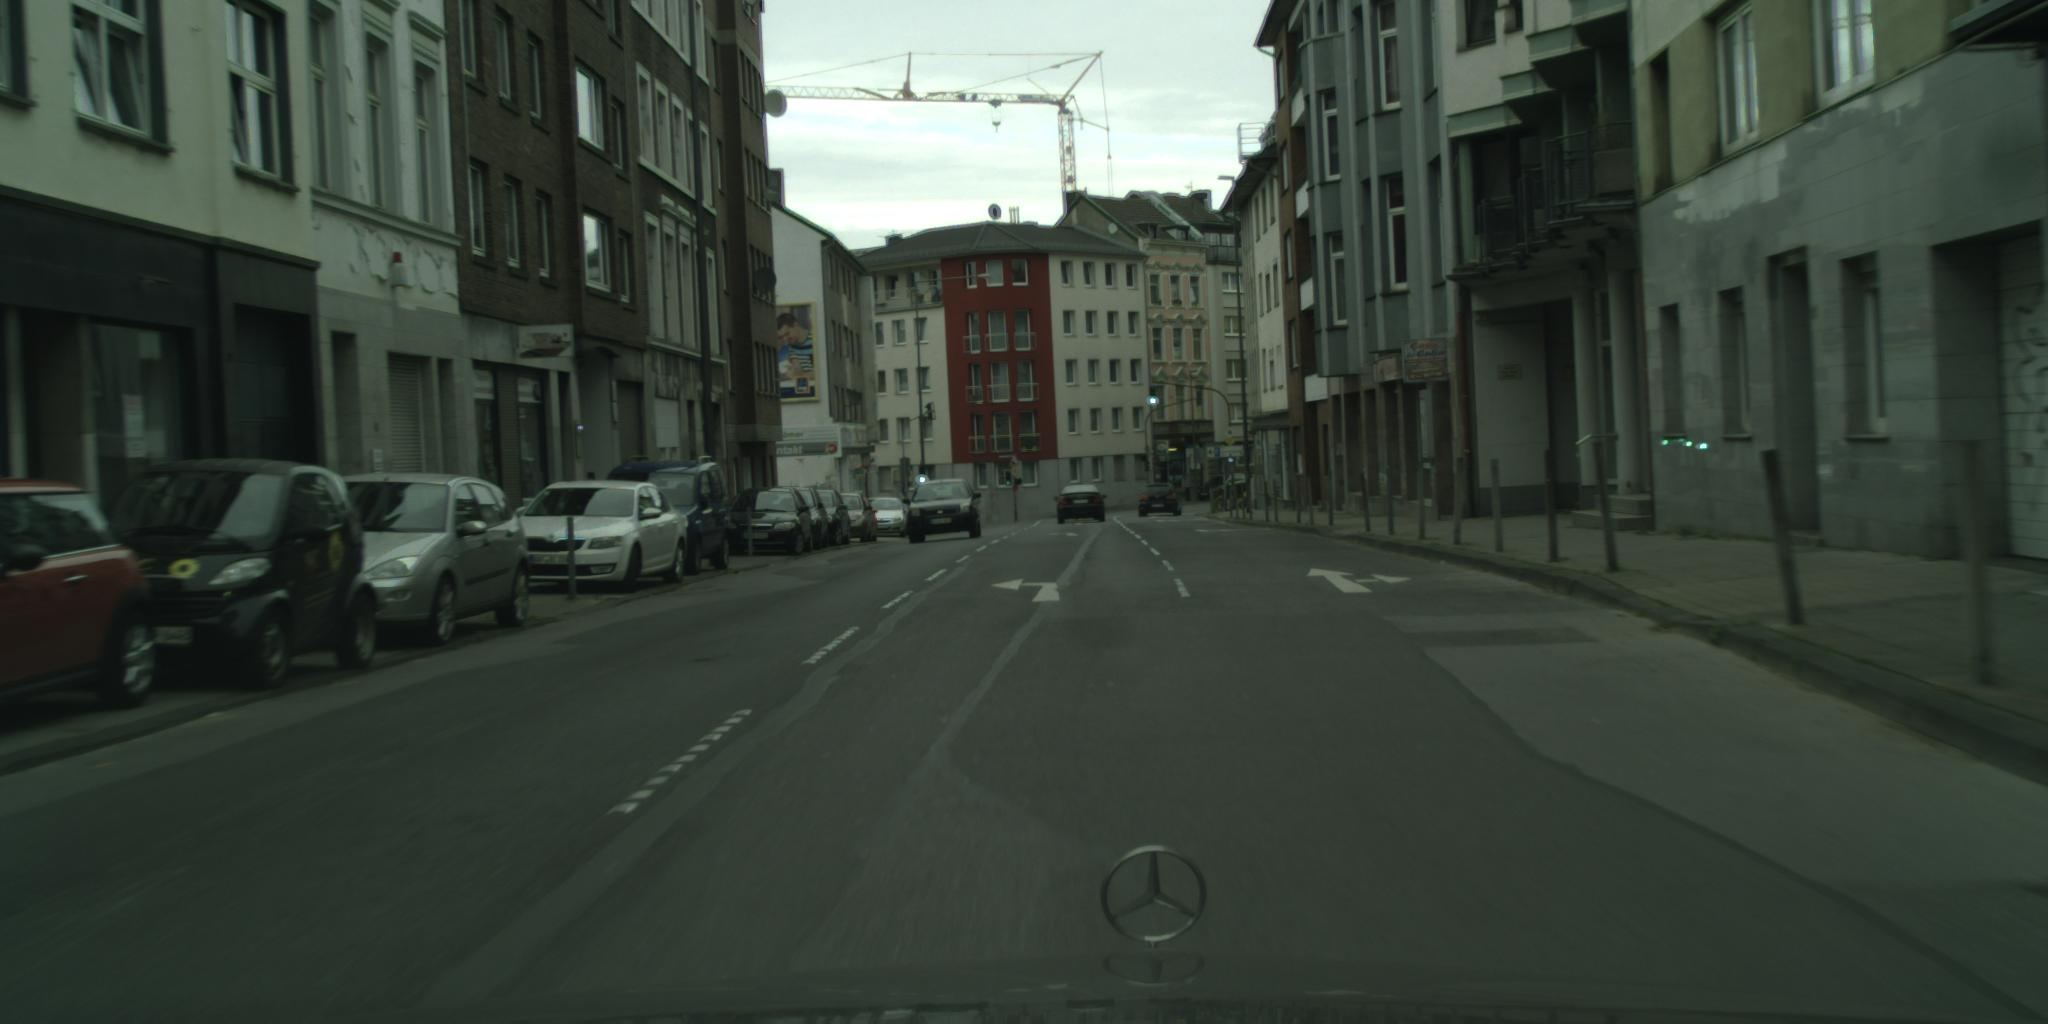car: (86, 460, 380, 692), (1, 479, 158, 711), (330, 473, 530, 648), (505, 481, 688, 594), (606, 456, 731, 577), (718, 488, 815, 556), (903, 478, 984, 545), (781, 487, 829, 550), (1054, 485, 1109, 525), (854, 498, 908, 538), (815, 488, 852, 546), (835, 492, 874, 543), (1196, 472, 1253, 502), (1139, 485, 1183, 517), (849, 498, 879, 542)
